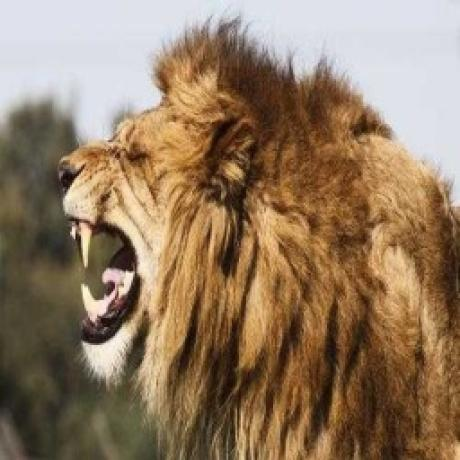Lion: (54, 25, 460, 460)
